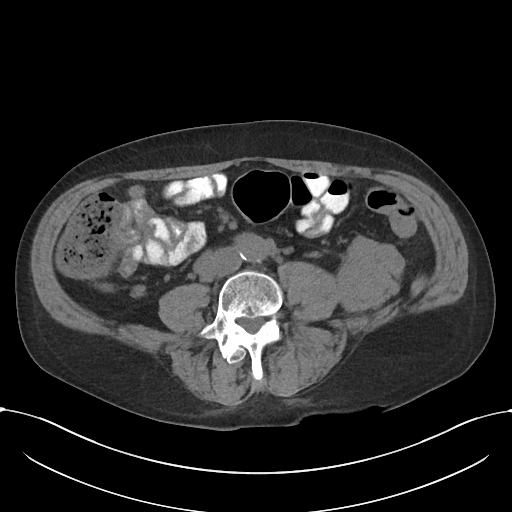Lesion: (331, 233, 407, 315)
